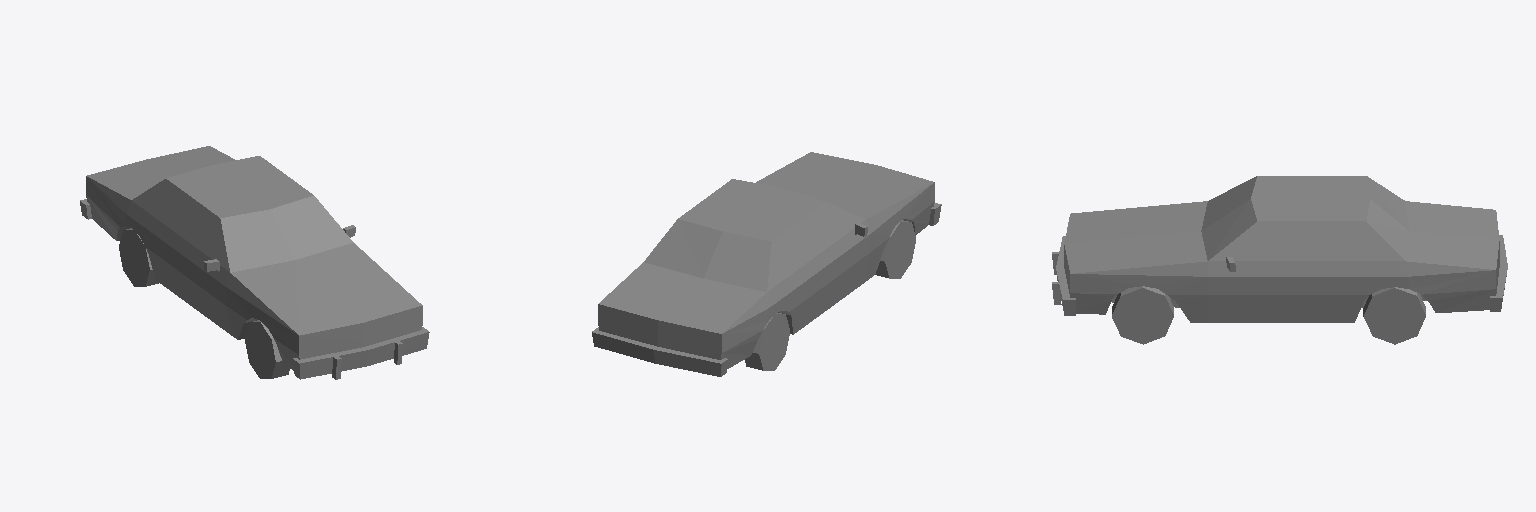
File: Car5.obj
3 renders of one model, left to right at view 1: azimuth 30°, elevation 25°; view 2: azimuth 150°, elevation 25°; view 3: azimuth 270°, elevation 25°, orthographic.
Visible parts, largest first — view 1: Car5; view 2: Car5; view 3: Car5.
Part boxes in pixels (left/top/right/bottom): Car5: left=80, top=146, right=429, bottom=379; Car5: left=592, top=152, right=941, bottom=376; Car5: left=1052, top=176, right=1507, bottom=344.
Size of the model in its own units: 2.78 by 2.05 by 7.37.